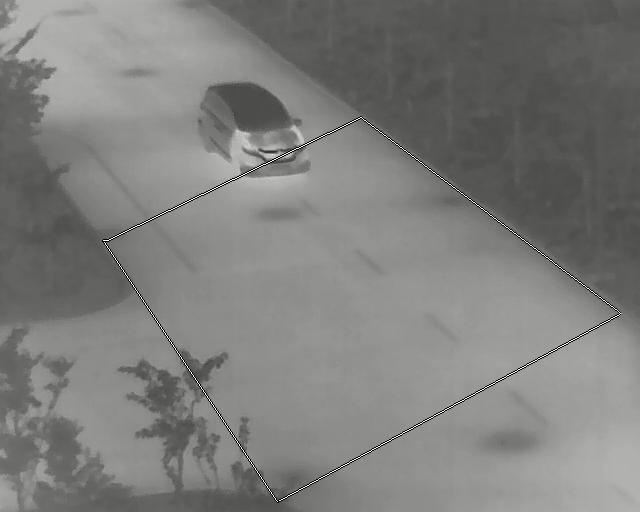vehicle: (196, 83, 312, 177)
